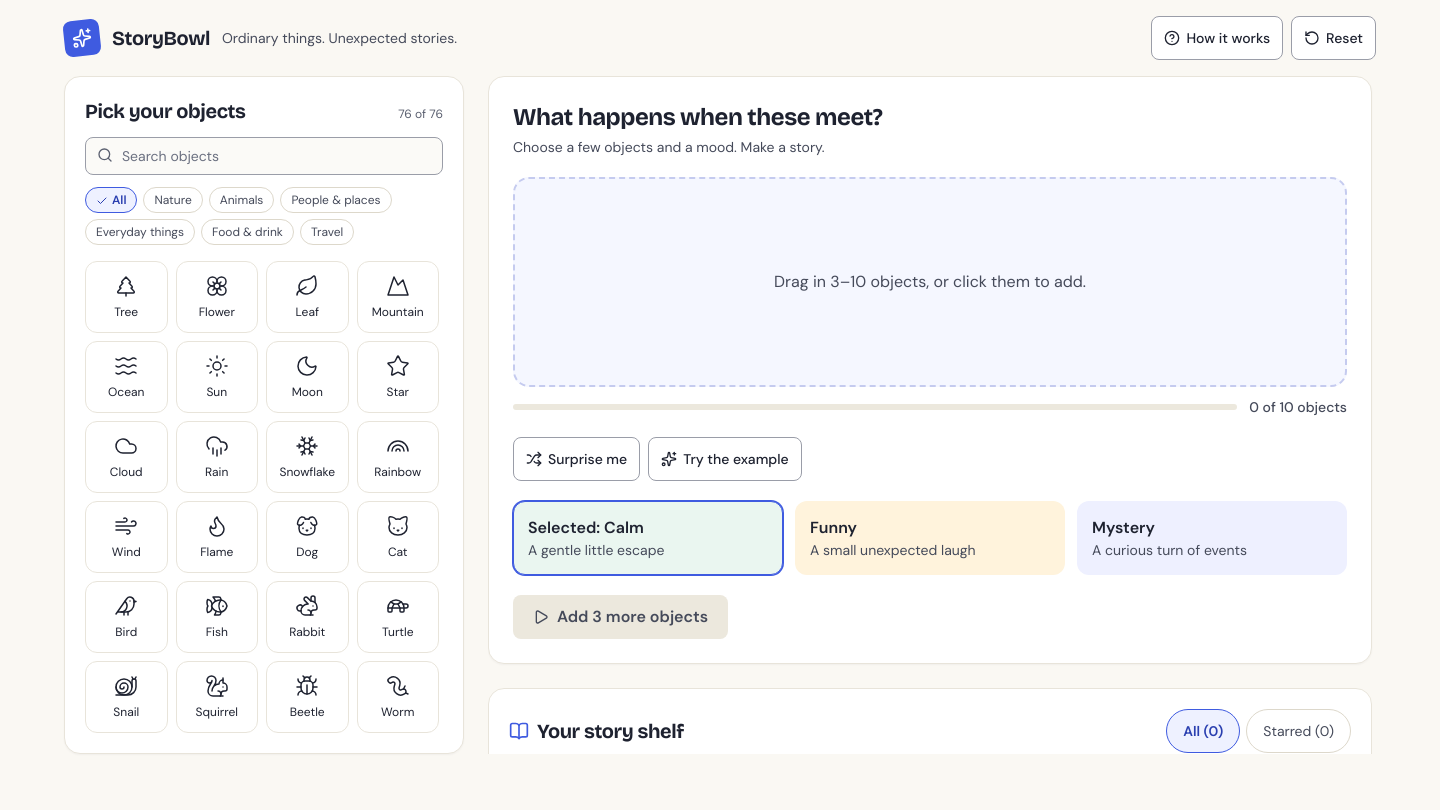
Test: generation and narration › aborts on add and ignores a late success even if the mock ignores abort
Click the button "Try the example": (725, 459) top-left (648, 437), bottom-right (802, 481)
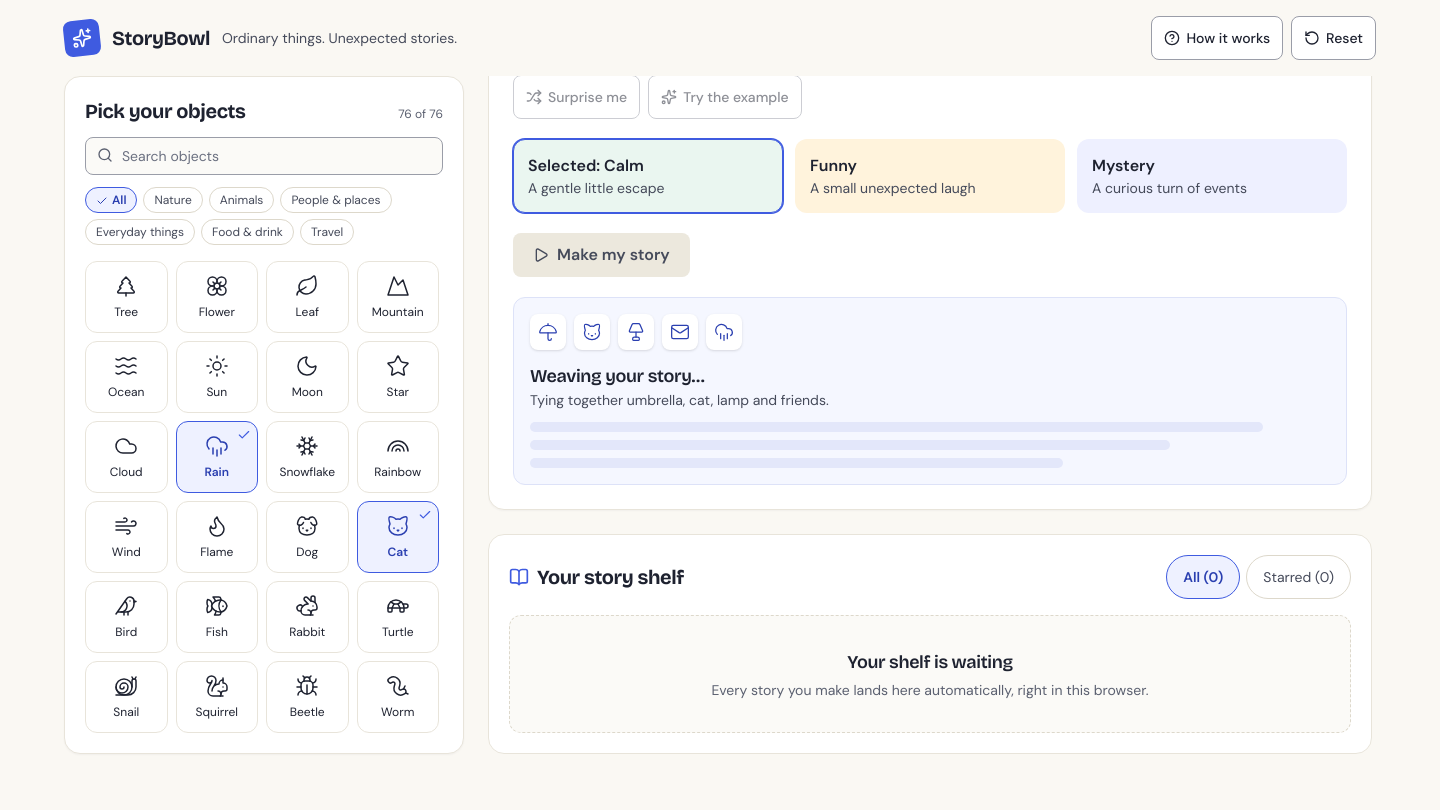
expect the message "Weaving your story… Tying together umbrella, cat, lamp and friends." is shown: met, box top-left (513, 297), bottom-right (1347, 485)
Click the button with aria-label "Add dog": (307, 537) top-left (266, 501), bottom-right (348, 573)
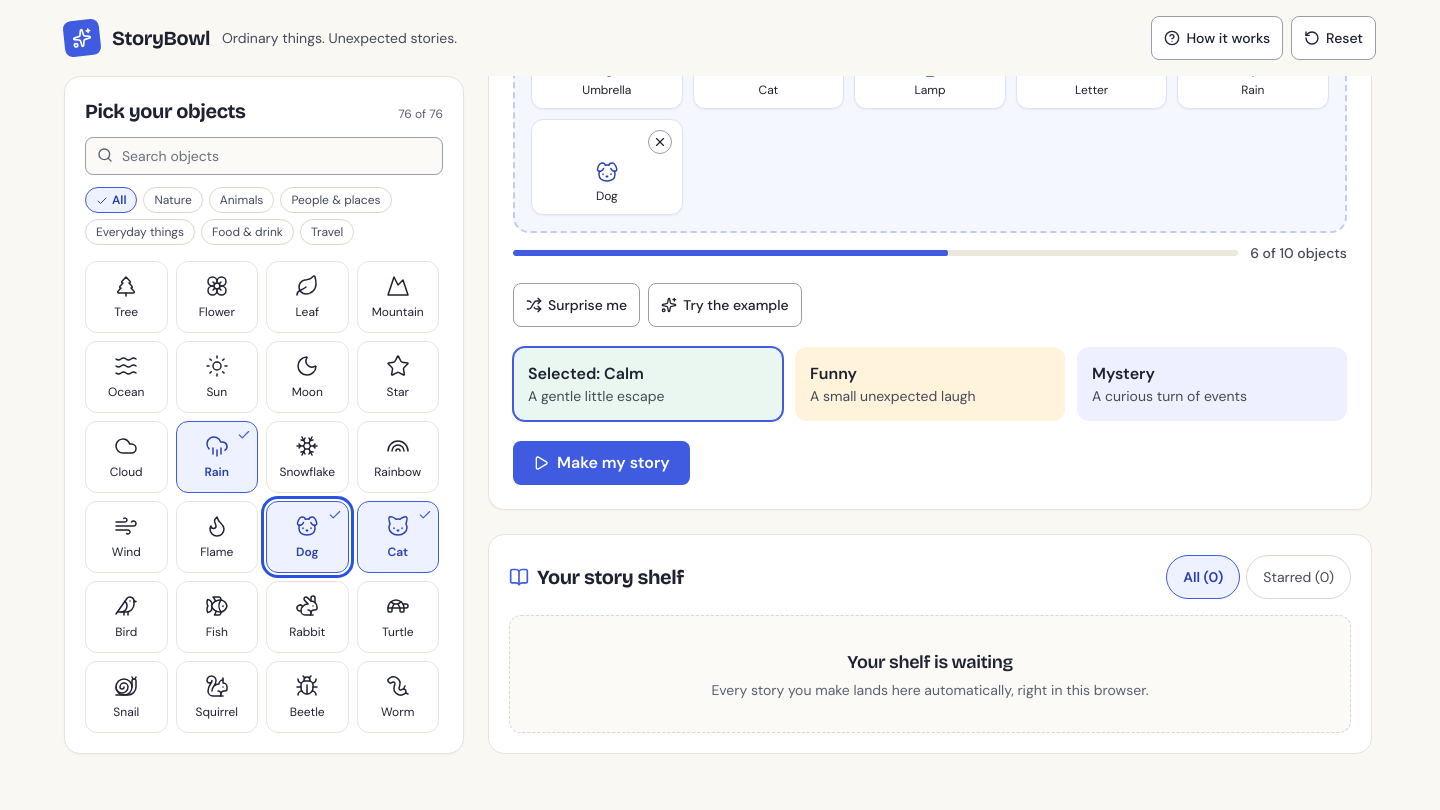
expect the message with test id "text-loading" is gone: met
expect the message "Weaving your story… Tying together umbrella, cat, lamp and friends." is gone: met
